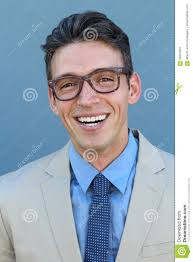Glasses: (40, 63, 133, 105)
